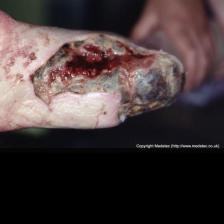Wound: (29, 23, 187, 129)
